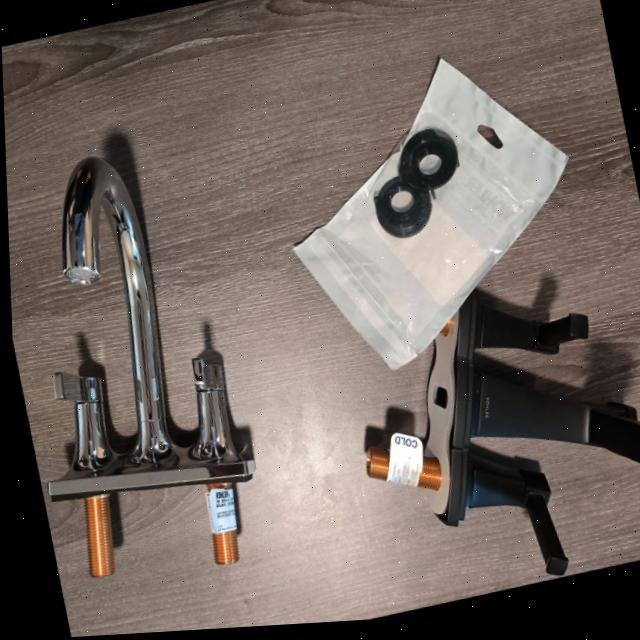10: (47, 157, 254, 577)
13: (294, 59, 566, 369)
9o: (366, 291, 640, 575)
